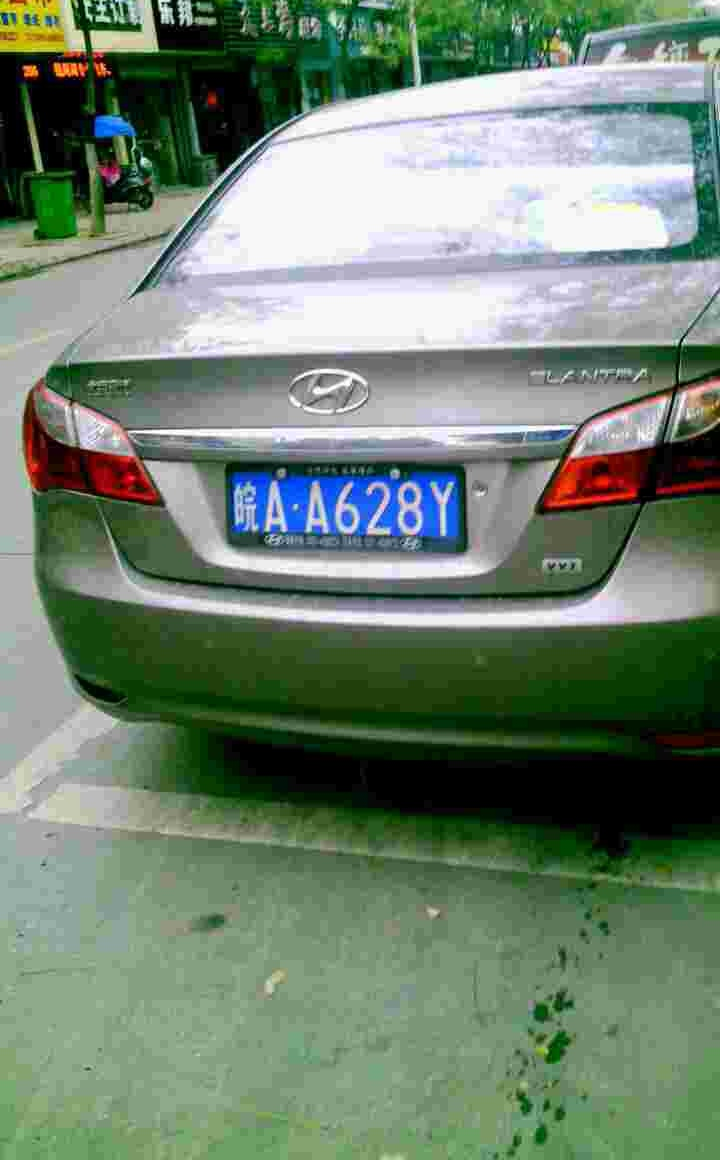license_plate: (220, 470, 459, 531)
